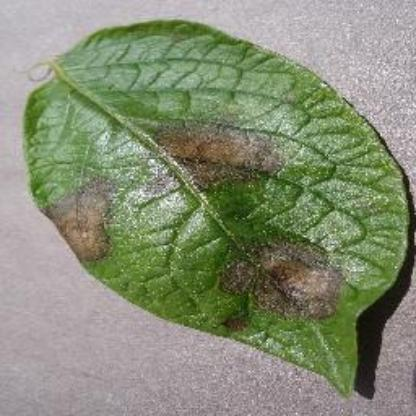Late-Blight: (14, 27, 408, 406)
